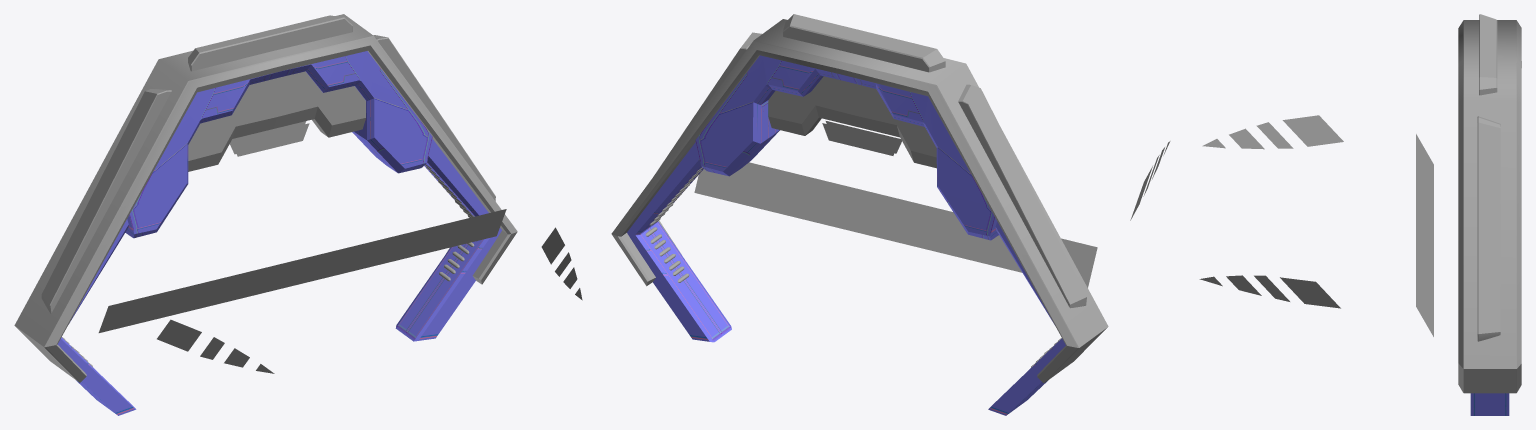
File: StartingGate.fbx
The picture shows the model from 3 angles, left to right: view 1: azimuth 30°, elevation 25°; view 2: azimuth 150°, elevation 25°; view 3: azimuth 270°, elevation 25°; orthographic projection. The views are drawn at different scales.
Parts seen in each view (by area): view 1: StartingGate; view 2: StartingGate; view 3: StartingGate.
Boxes of the visible parts, x1,y1,x2,y2 form: StartingGate: (14,14,582,415); StartingGate: (611,14,1170,415); StartingGate: (1199,14,1521,415).
Bounding box in the file's own units: 9.93 × 6.78 × 6.58.
